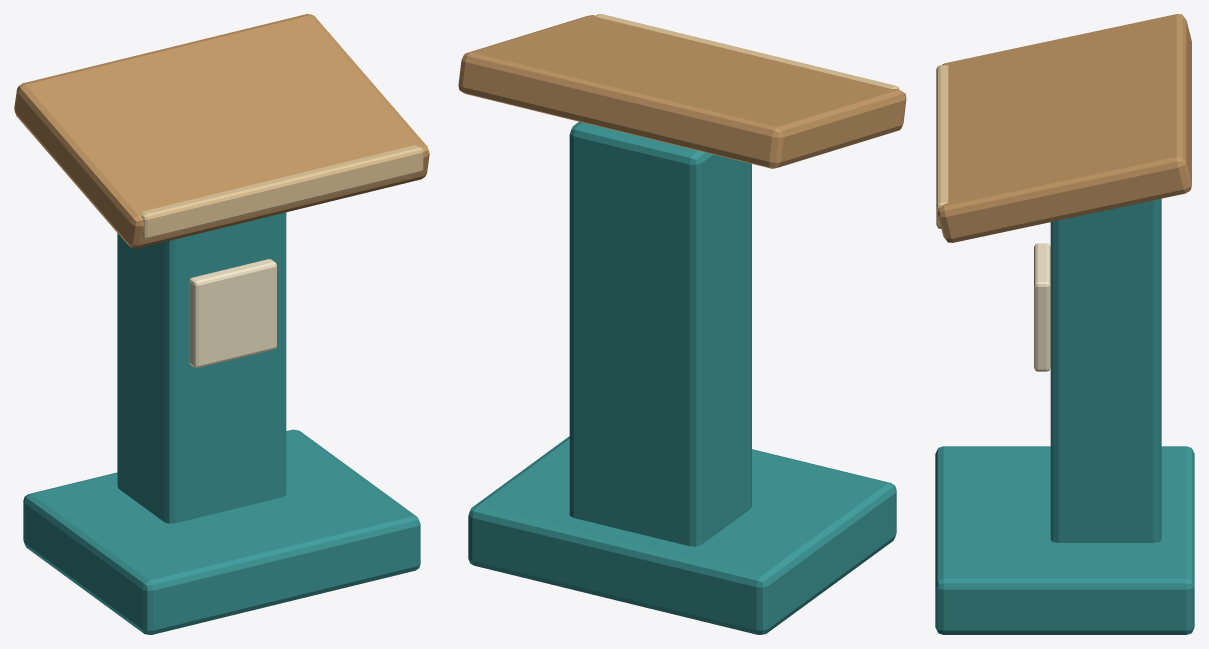
Rendered from S048_lectern.glb.
3 renders of one model, left to right at view 1: azimuth 30°, elevation 25°; view 2: azimuth 150°, elevation 25°; view 3: azimuth 270°, elevation 25°, orthographic. The views are drawn at different scales.
Visible parts, largest first — view 1: sloping_lectern_top, lectern_foot, lectern_stem, paper_stop, lectern_crest; view 2: lectern_stem, lectern_foot, sloping_lectern_top, paper_stop; view 3: sloping_lectern_top, lectern_foot, lectern_stem, lectern_crest, paper_stop.
Boxes of the visible parts, <box> form: sloping_lectern_top: <box>14,14,429,248</box>; lectern_foot: <box>23,429,420,634</box>; lectern_stem: <box>117,212,286,523</box>; paper_stop: <box>141,145,423,239</box>; lectern_crest: <box>189,259,276,367</box>; lectern_stem: <box>569,122,751,546</box>; lectern_foot: <box>468,436,896,634</box>; sloping_lectern_top: <box>458,15,906,168</box>; paper_stop: <box>596,14,899,89</box>; sloping_lectern_top: <box>938,14,1191,242</box>; lectern_foot: <box>935,446,1194,634</box>; lectern_stem: <box>1050,198,1161,542</box>; lectern_crest: <box>1034,243,1050,371</box>; paper_stop: <box>936,65,948,228</box>.
Size of the model in its own units: 0.86 by 1.29 by 0.63.
